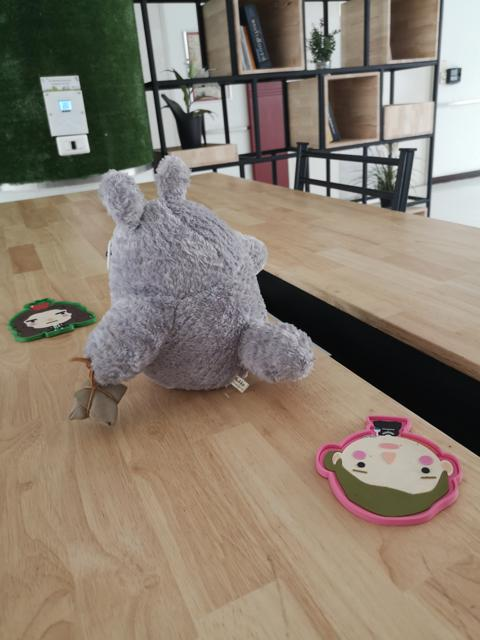totoro: (65, 152, 320, 436)
